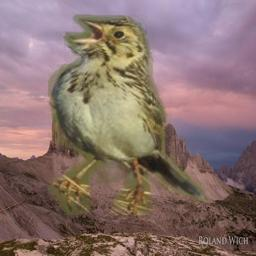Sparrow: (48, 14, 211, 215)
